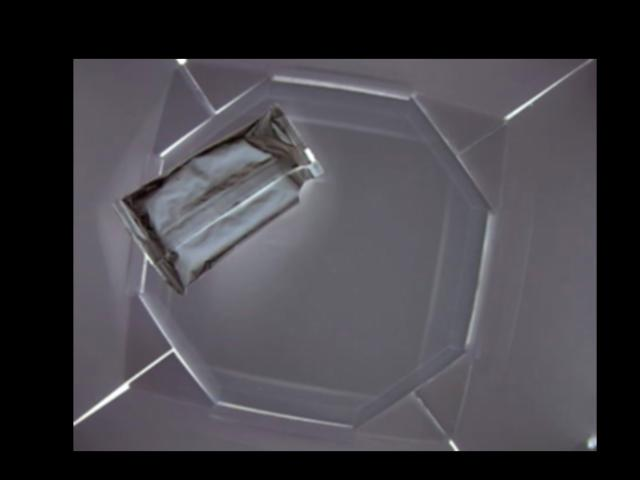Medicine: (115, 101, 326, 297)
